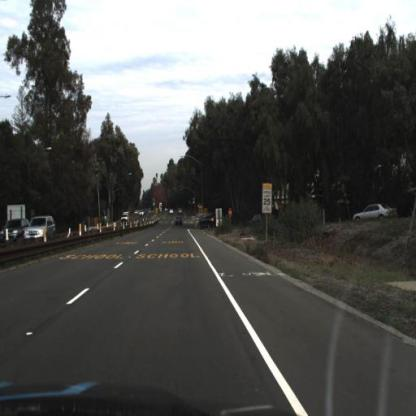car: (346, 202, 400, 228), (25, 217, 57, 242), (2, 215, 32, 241), (199, 211, 218, 232), (119, 209, 133, 230), (174, 218, 186, 232), (175, 214, 185, 230)
trafficLight-Green: (151, 197, 157, 213), (192, 197, 197, 215), (179, 185, 184, 196)
